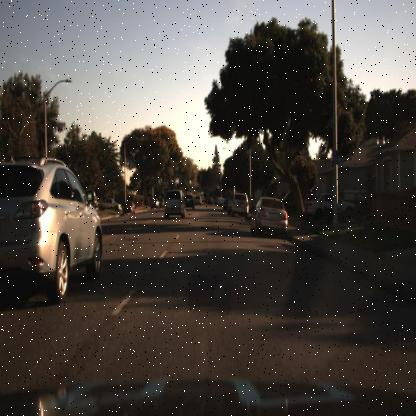car: (1, 156, 105, 303), (246, 194, 288, 237), (303, 193, 354, 221), (163, 188, 186, 220), (229, 188, 250, 218), (103, 193, 122, 213), (99, 198, 122, 212), (180, 192, 195, 212), (120, 200, 135, 216), (124, 198, 136, 216), (149, 194, 160, 211), (204, 198, 214, 206)
